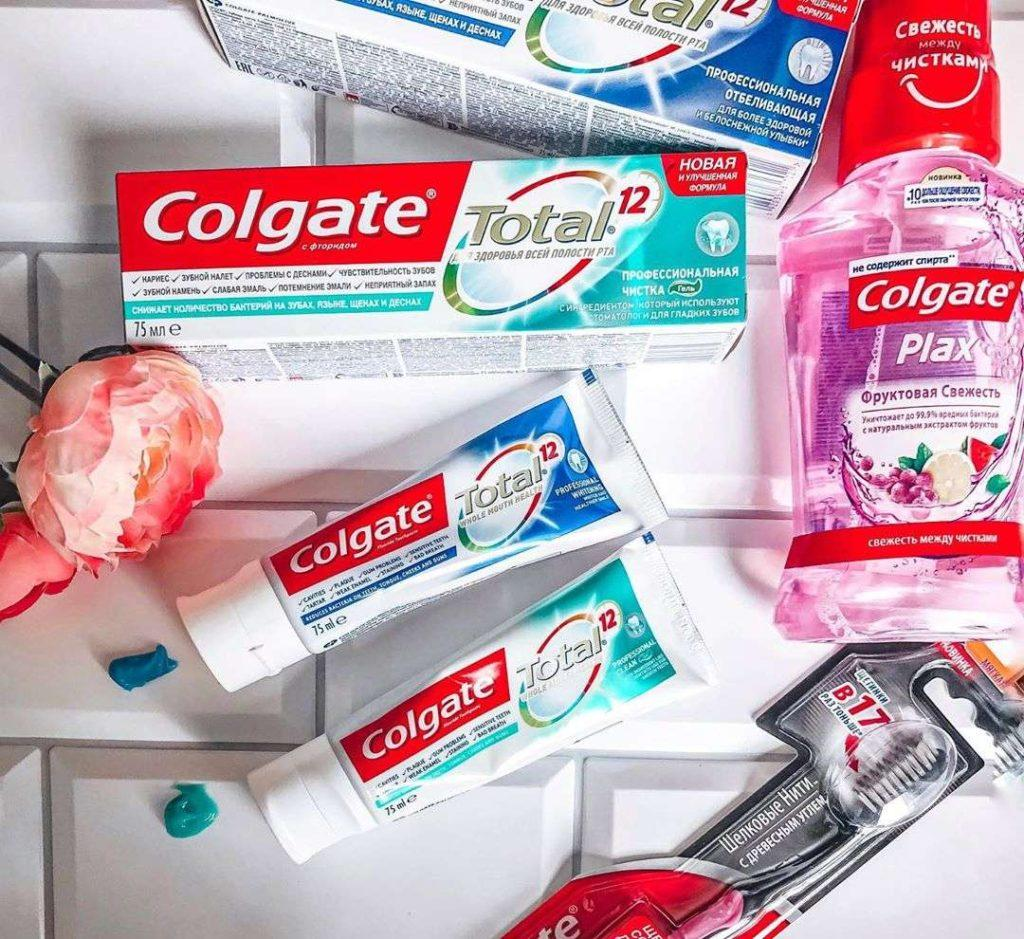toothpaste: (162, 353, 705, 681), (261, 548, 719, 835)
